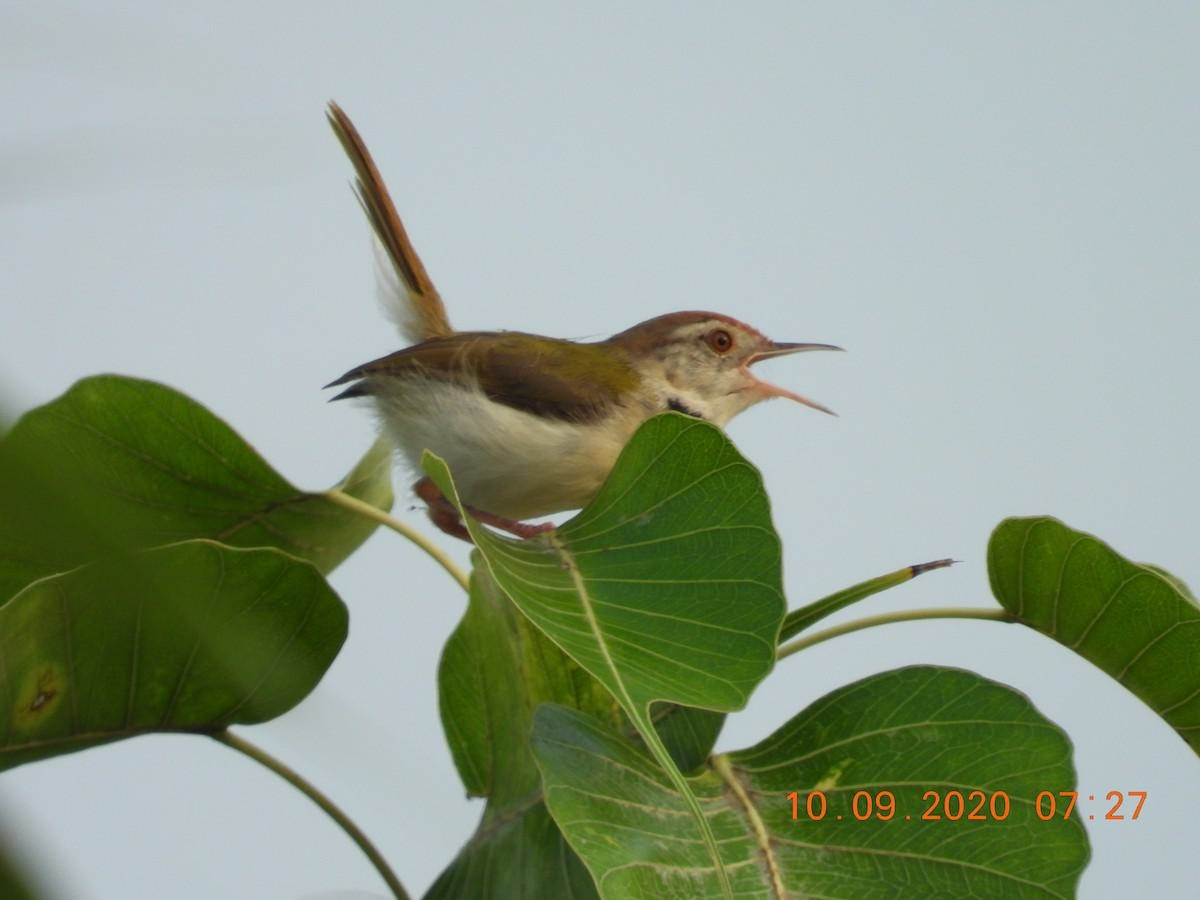tailorbird: (337, 198, 867, 548)
